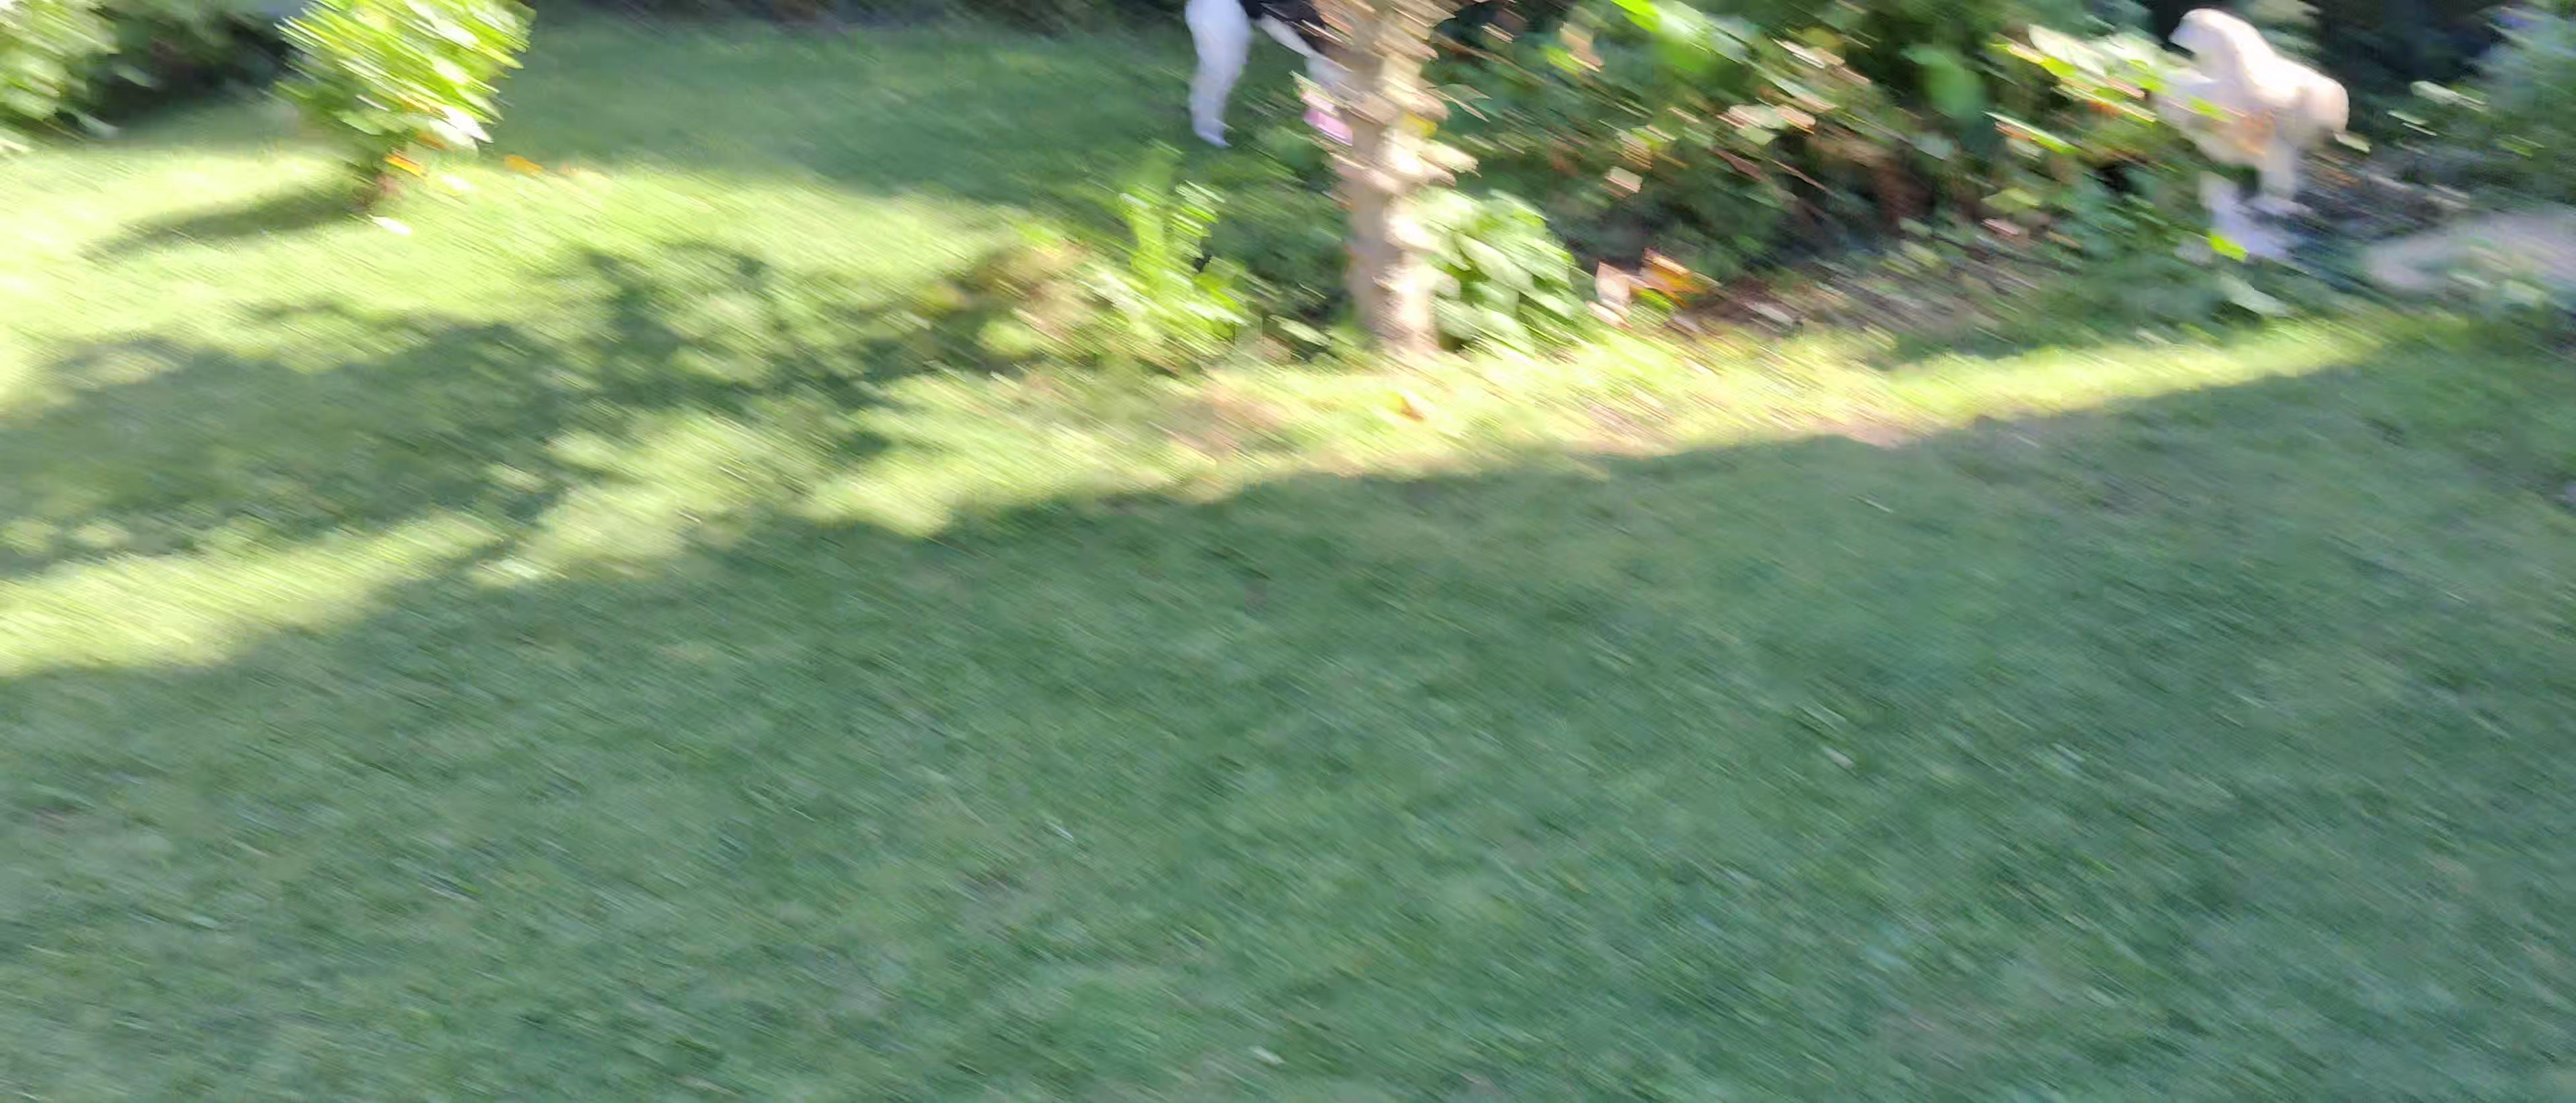Dog: (1175, 0, 1355, 151)
